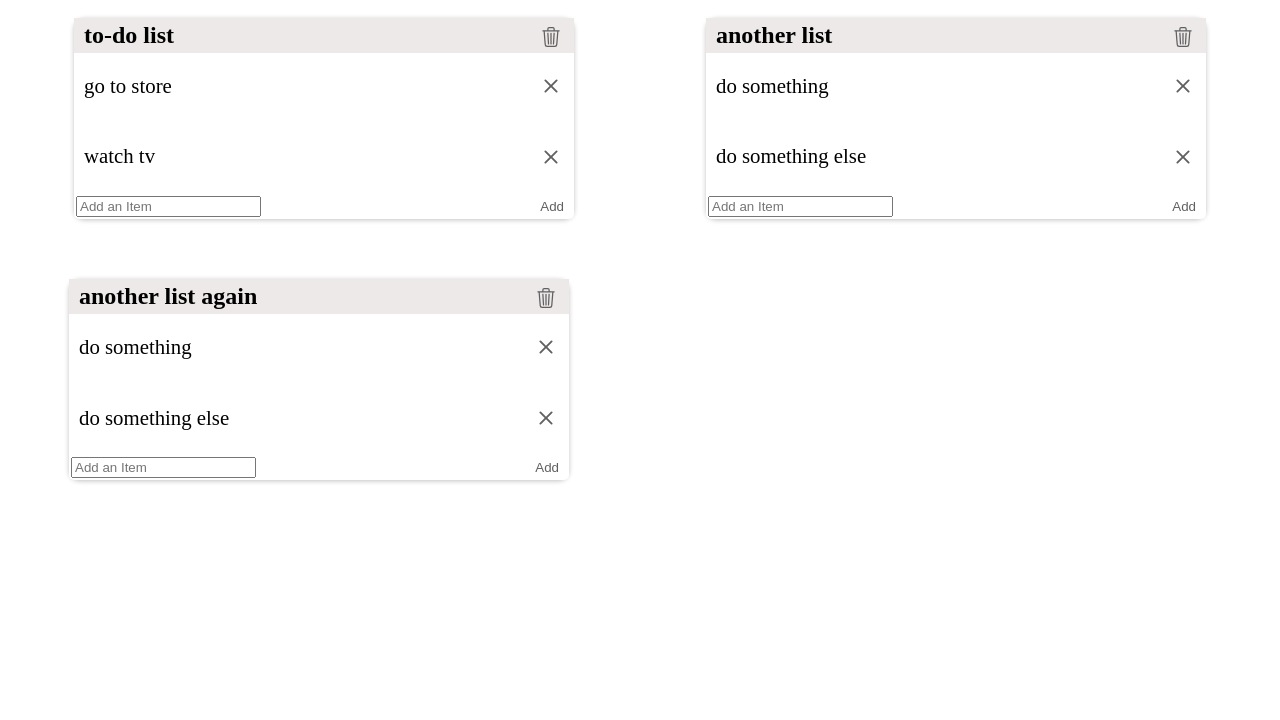
list › deletes a list
The image size is (1280, 720).
Click the 2nd button named "delete list".
click(1183, 36)  # box [1165,18,1201,53]
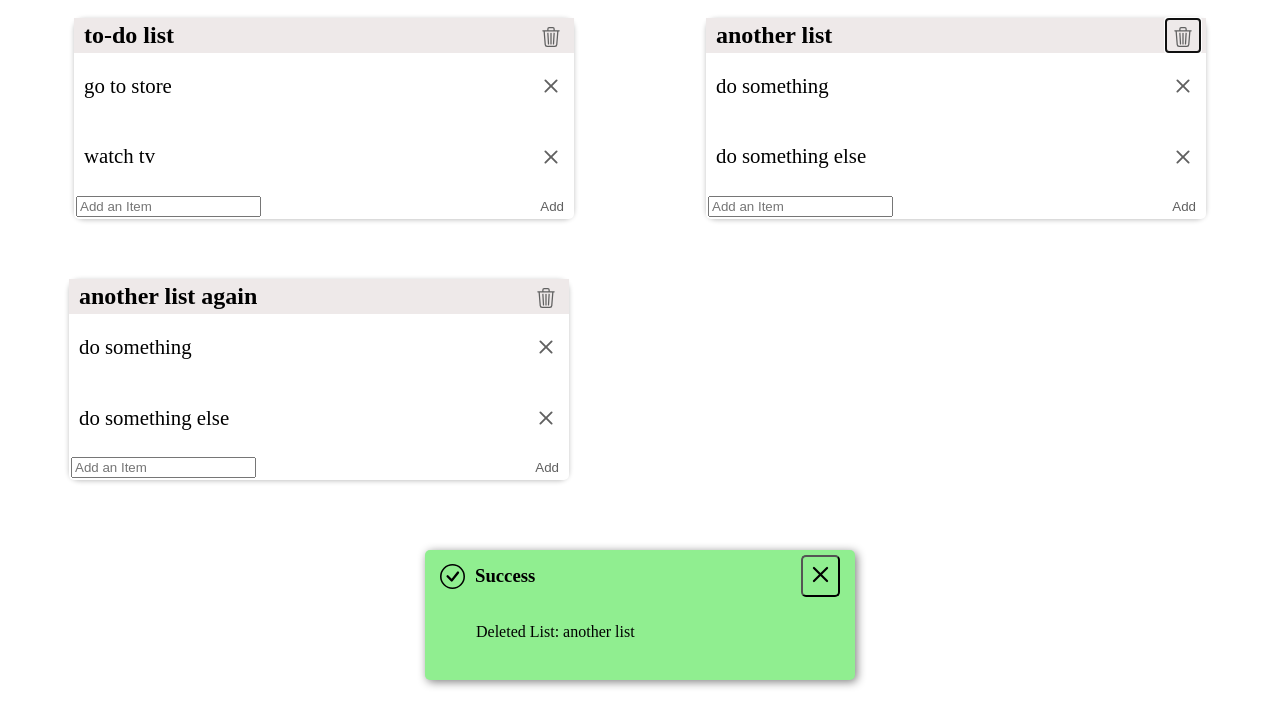
Expected: the text "Deleted List: another list" is shown, [476,623,635,640]
